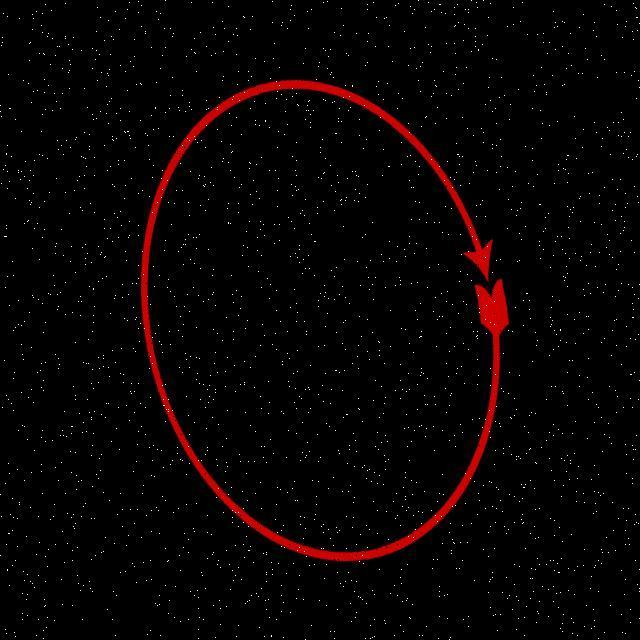Circle: (129, 71, 516, 568)
